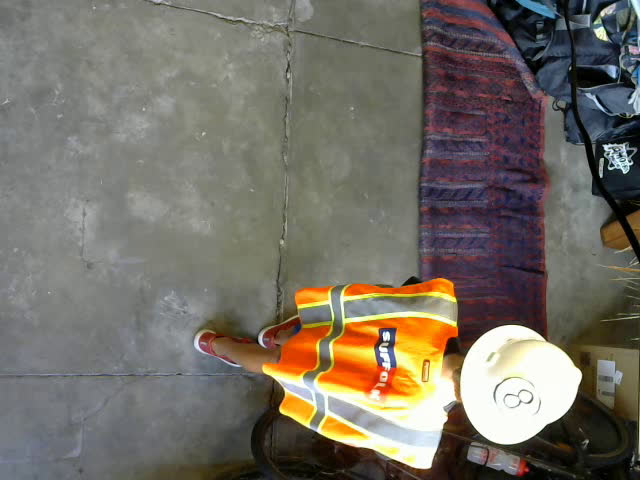eight: (493, 376, 543, 424)
